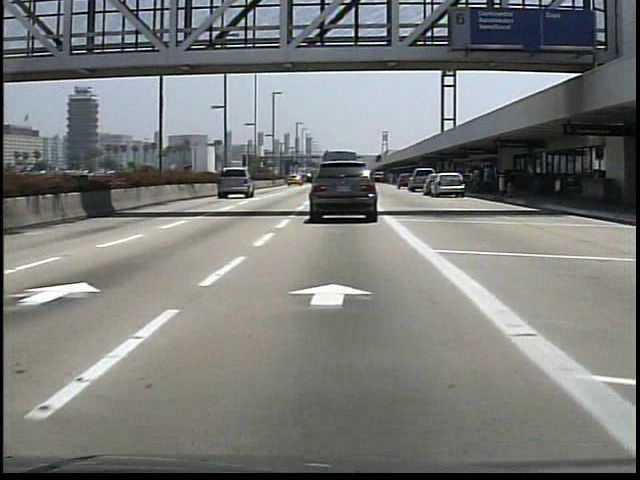person: (479, 160, 495, 197), (465, 165, 482, 198)
